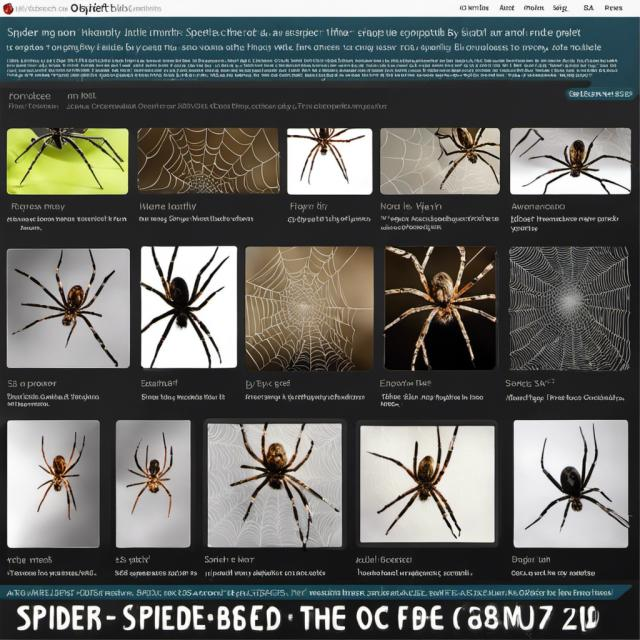spider: (376, 248, 499, 372), (362, 435, 486, 550), (225, 418, 337, 539), (10, 254, 129, 363), (522, 424, 630, 542), (141, 246, 236, 370), (5, 420, 96, 538), (528, 141, 630, 197), (125, 424, 181, 522), (15, 134, 120, 186), (291, 124, 366, 195), (435, 119, 505, 190)
